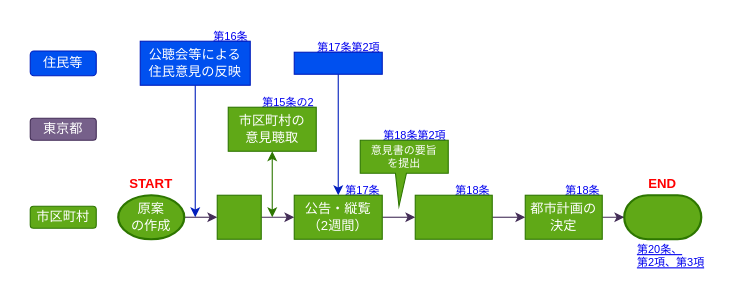
The diagram is 741 pixels wide and 301 high, and some of its shapes have lost their labels. The centre of each missing label's shape, as x and y in pixels:
"告示縦覧" goes at point (662, 217).
"市区町村 都市計画審議会＊" goes at point (453, 216).
"意見書の提出" goes at point (337, 62).
"案の 作成" goes at point (238, 216).
